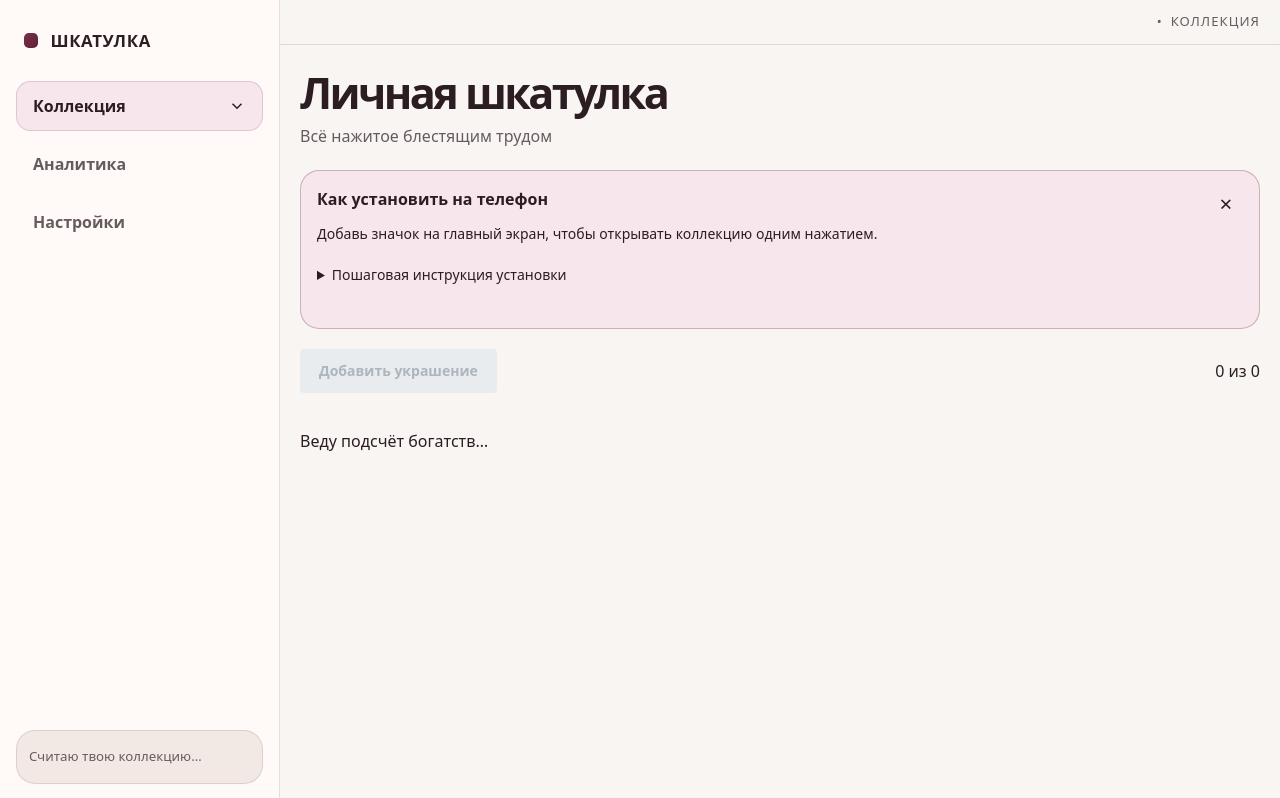
Test: foundation regressions › keeps canonical settings when the cache fails and can retry the cache
Later steps or results of the test are not shown.
Click the button "Настройки" at (140, 222), box [16, 197, 263, 247]
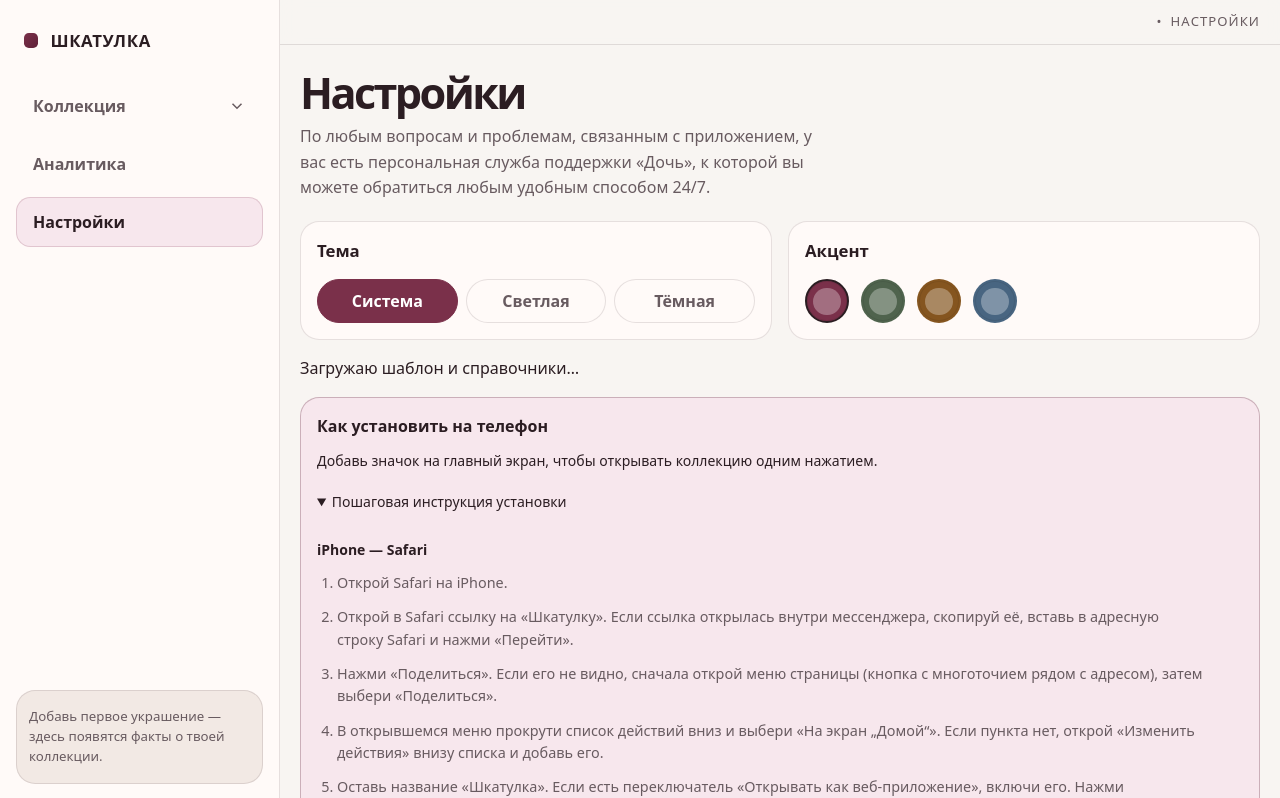
Expected: the heading "Настройки" is shown, [300, 63, 525, 122]
Expected: the button named "Зелёный" is enabled
Click the button named "Зелёный" at (883, 301), box [861, 279, 905, 323]
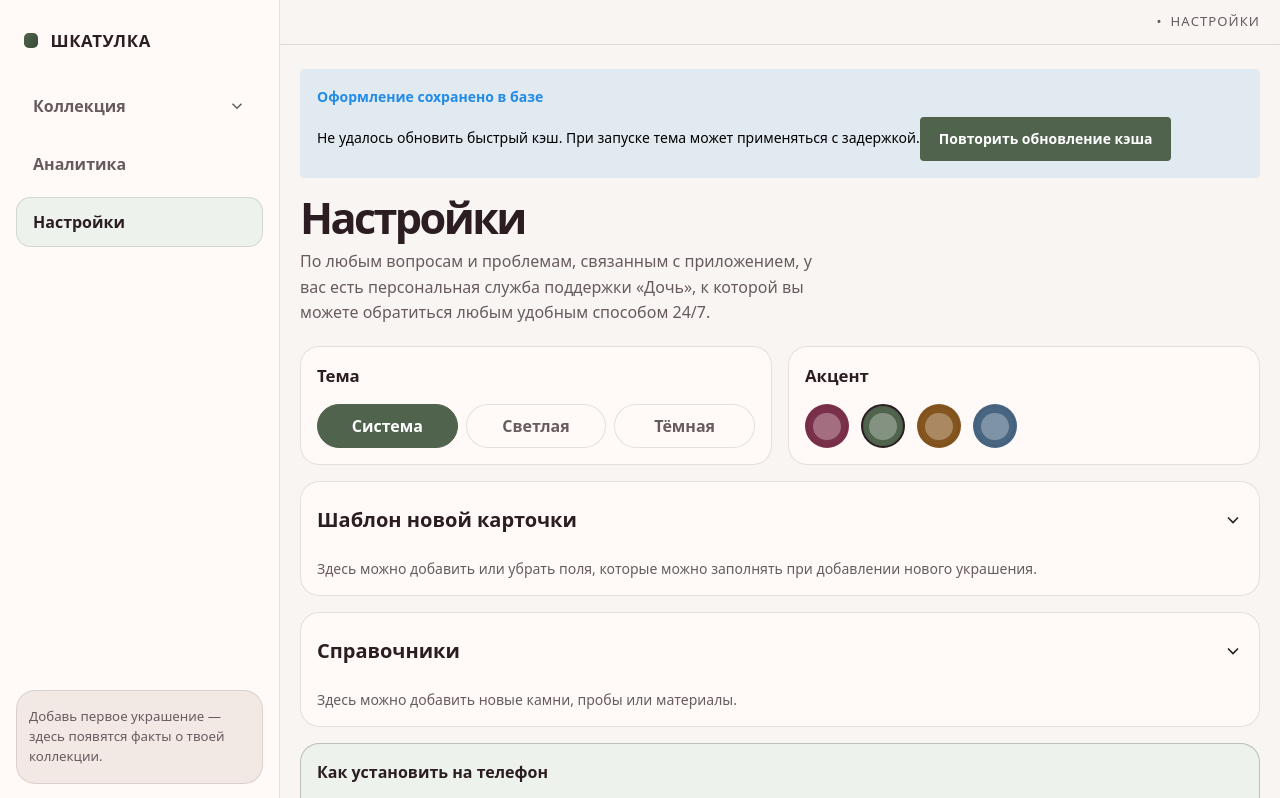
Expected: the text "Оформление сохранено в базе" is shown, [317, 86, 543, 107]
